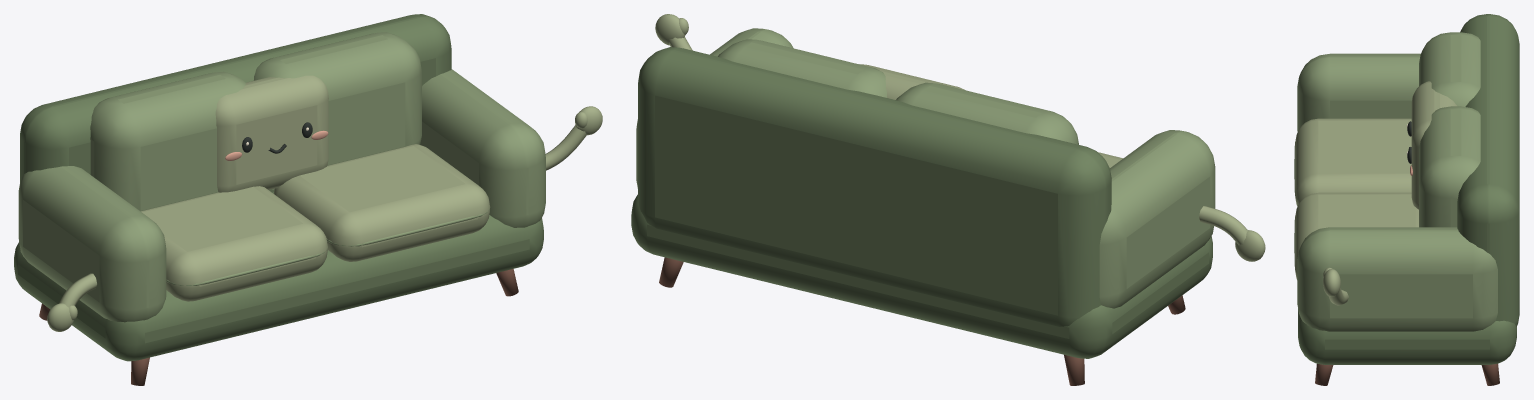
Rendered from sofa.glb.
3 renders of one model, left to right at view 1: azimuth 30°, elevation 25°; view 2: azimuth 150°, elevation 25°; view 3: azimuth 270°, elevation 25°, orthographic. The views are drawn at different scales.
Parts seen in each view (by area): view 1: Clean.Base, Clean.Bolster, Clean.Seat.001, Clean.Back, Clean.Seat, Clean.Back.001, Clean.Bolster.001, Clean.Center, Задник, Мягкая рука.001, Мягкая рука, Варежка (+1 smaller); view 2: Задник, Clean.Base, Clean.Bolster, Clean.Back, Clean.Back.001, Мягкая рука, Clean.Bolster.001, Clean.Center, Варежка, Варежка.001; view 3: Clean.Bolster.001, Задник, Clean.Seat, Clean.Bolster, Clean.Base, Clean.Back.001, Clean.Seat.001, Clean.Back, Clean.Center, Варежка.001, Ножка.003, Ножка.002 (+1 smaller).
Part boxes in pixels (x1,y1,x2,y2): Clean.Base: [14, 192, 543, 361]; Clean.Bolster: [18, 166, 166, 322]; Clean.Seat.001: [273, 144, 489, 261]; Clean.Back: [90, 71, 245, 211]; Clean.Seat: [141, 186, 327, 301]; Clean.Back.001: [254, 32, 421, 189]; Clean.Bolster.001: [420, 69, 545, 227]; Clean.Center: [215, 75, 328, 192]; Задник: [20, 14, 451, 192]; Мягкая рука.001: [545, 125, 587, 170]; Мягкая рука: [59, 273, 96, 307]; Варежка: [47, 303, 73, 331]; Задник: [638, 47, 1111, 326]; Clean.Base: [631, 194, 1212, 358]; Clean.Bolster: [1099, 130, 1215, 308]; Clean.Back: [896, 82, 1078, 144]; Clean.Back.001: [718, 39, 886, 97]; Мягкая рука: [1199, 206, 1247, 245]; Clean.Bolster.001: [636, 28, 793, 188]; Clean.Center: [859, 64, 965, 99]; Варежка: [1235, 230, 1265, 261]; Варежка.001: [655, 14, 685, 45]; Clean.Bolster.001: [1297, 227, 1497, 331]; Задник: [1457, 14, 1519, 326]; Clean.Seat: [1295, 118, 1411, 206]; Clean.Bolster: [1297, 53, 1420, 131]; Clean.Base: [1298, 309, 1516, 364]; Clean.Back.001: [1419, 106, 1480, 227]; Clean.Seat.001: [1295, 192, 1418, 279]; Clean.Back: [1419, 32, 1480, 106]; Clean.Center: [1411, 81, 1456, 209]; Варежка.001: [1323, 269, 1340, 296]; Ножка.003: [1481, 363, 1499, 385]; Ножка.002: [1315, 364, 1333, 385].
Size of the model in its own units: 4.44 by 1.67 by 1.67.
